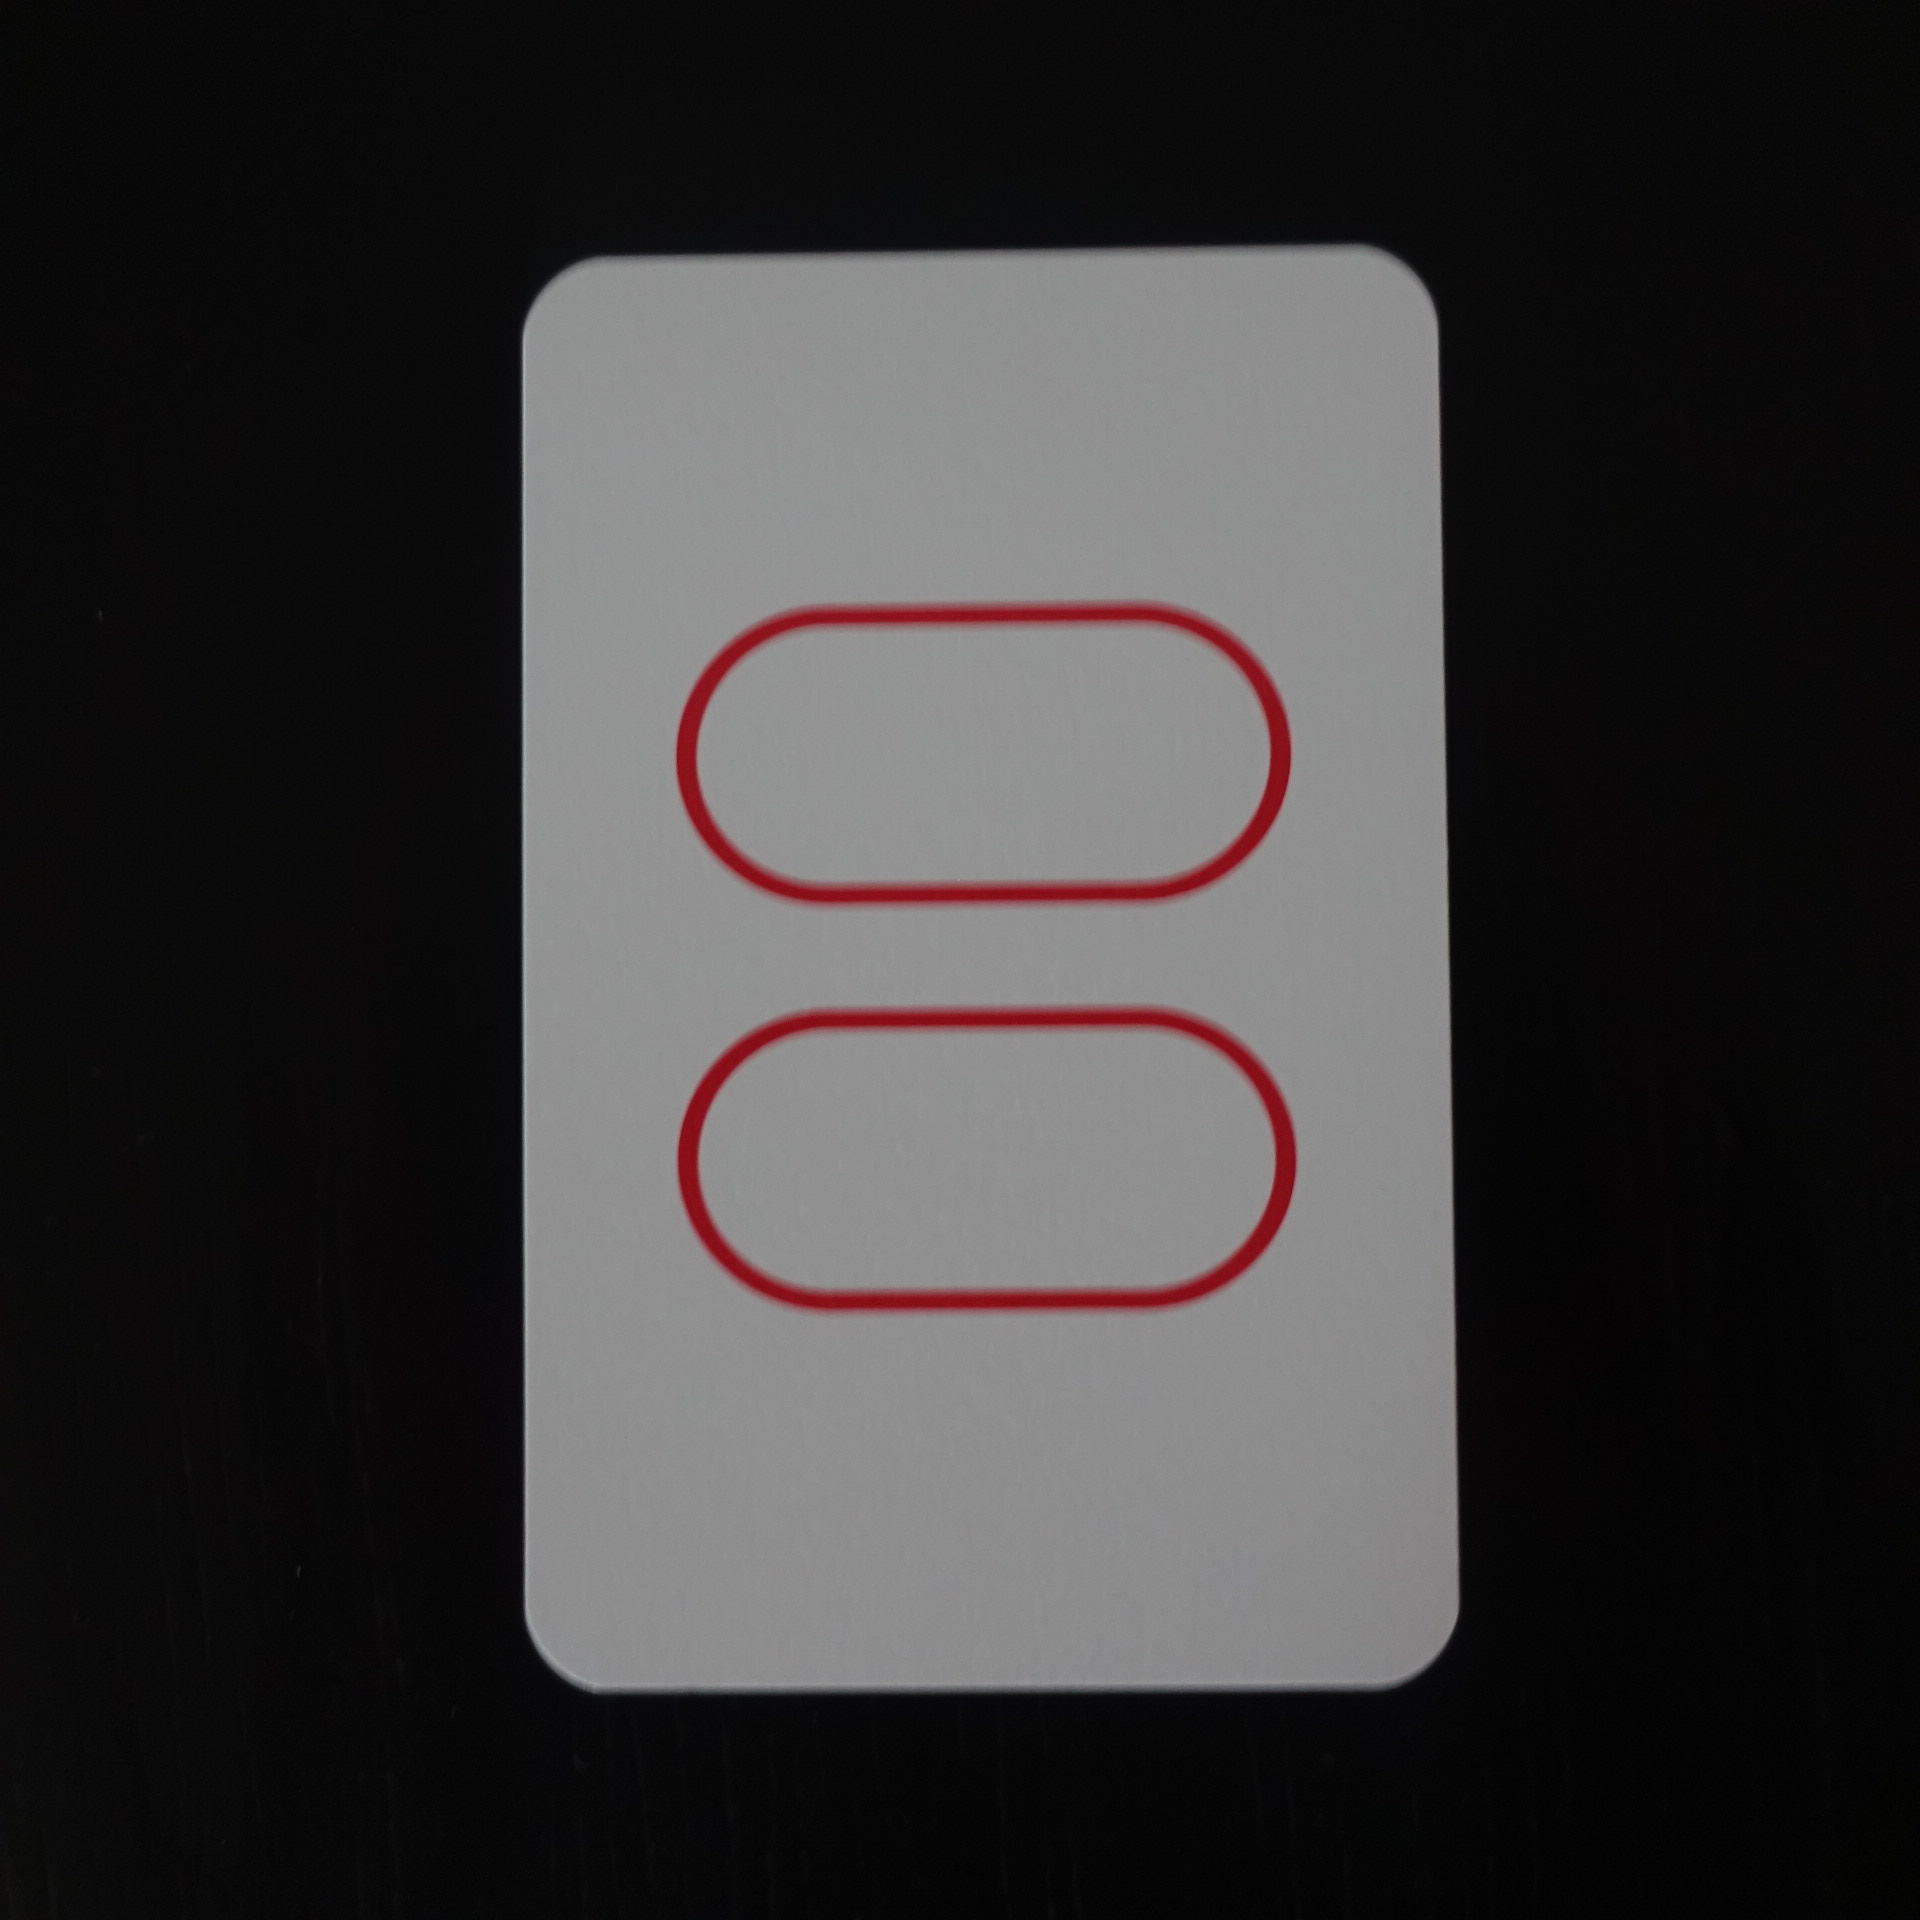c-2-f-d-r: (491, 218, 1484, 1714)
